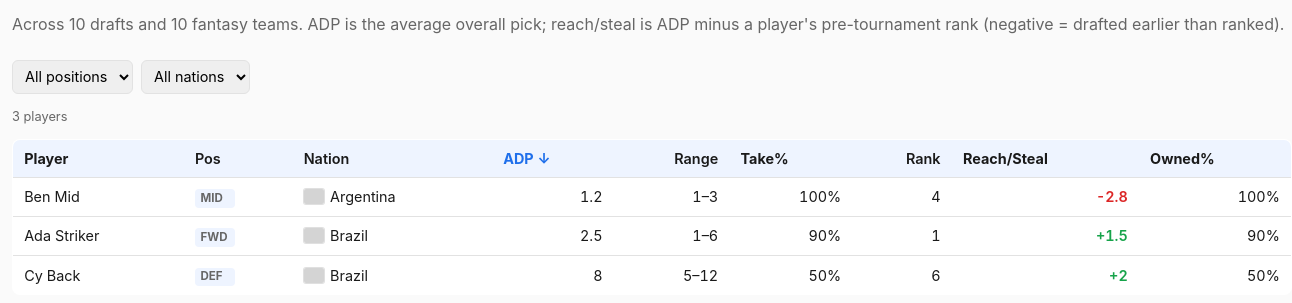
Scenario: DraftTrendsTable › shows an empty state when filters exclude everyone
Select "GK" in the dropdown named "Filter by position" at point(72, 77), box [12, 60, 133, 94]
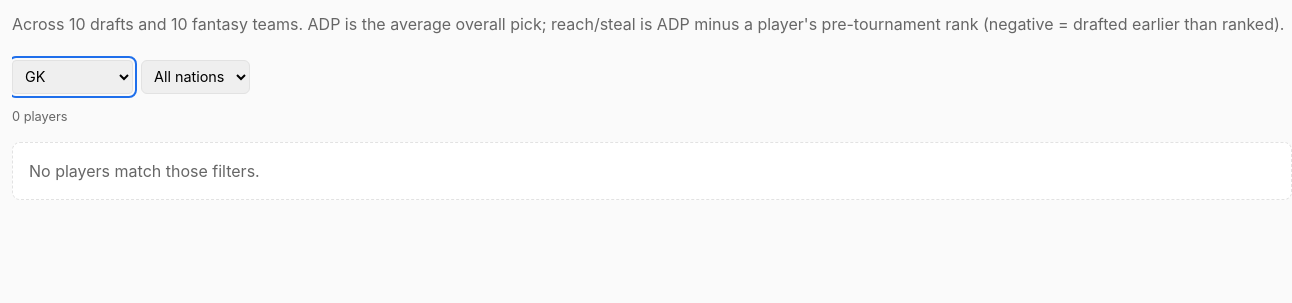
expect the text "No players match those filters." is shown: met, box [12, 142, 1291, 200]
